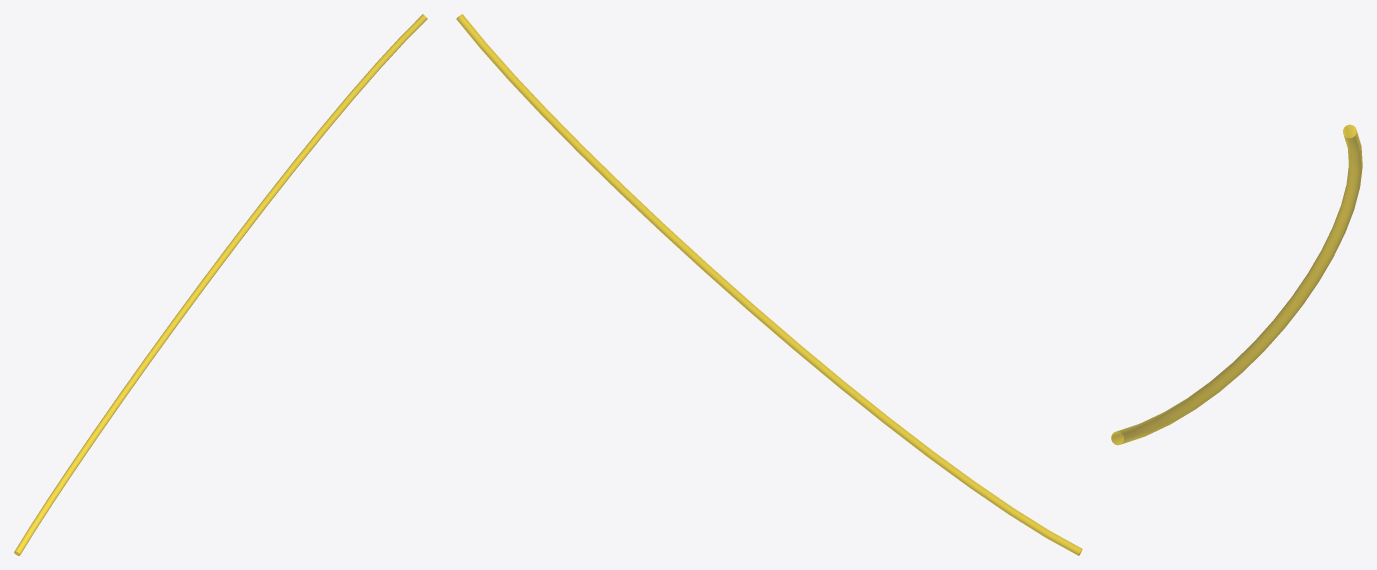
Rendered from Event_17758602_track_145.fbx.
3 renders of one model, left to right at view 1: azimuth 30°, elevation 25°; view 2: azimuth 150°, elevation 25°; view 3: azimuth 270°, elevation 25°, orthographic. The views are drawn at different scales.
Visible parts, largest first — view 1: Model; view 2: Model; view 3: Model.
Boxes of the visible parts, x1,y1,x2,y2 form: Model: [14, 14, 427, 555]; Model: [456, 14, 1082, 555]; Model: [1111, 124, 1362, 445].
Size of the model in its own units: 3.11 by 2.44 by 0.721.
